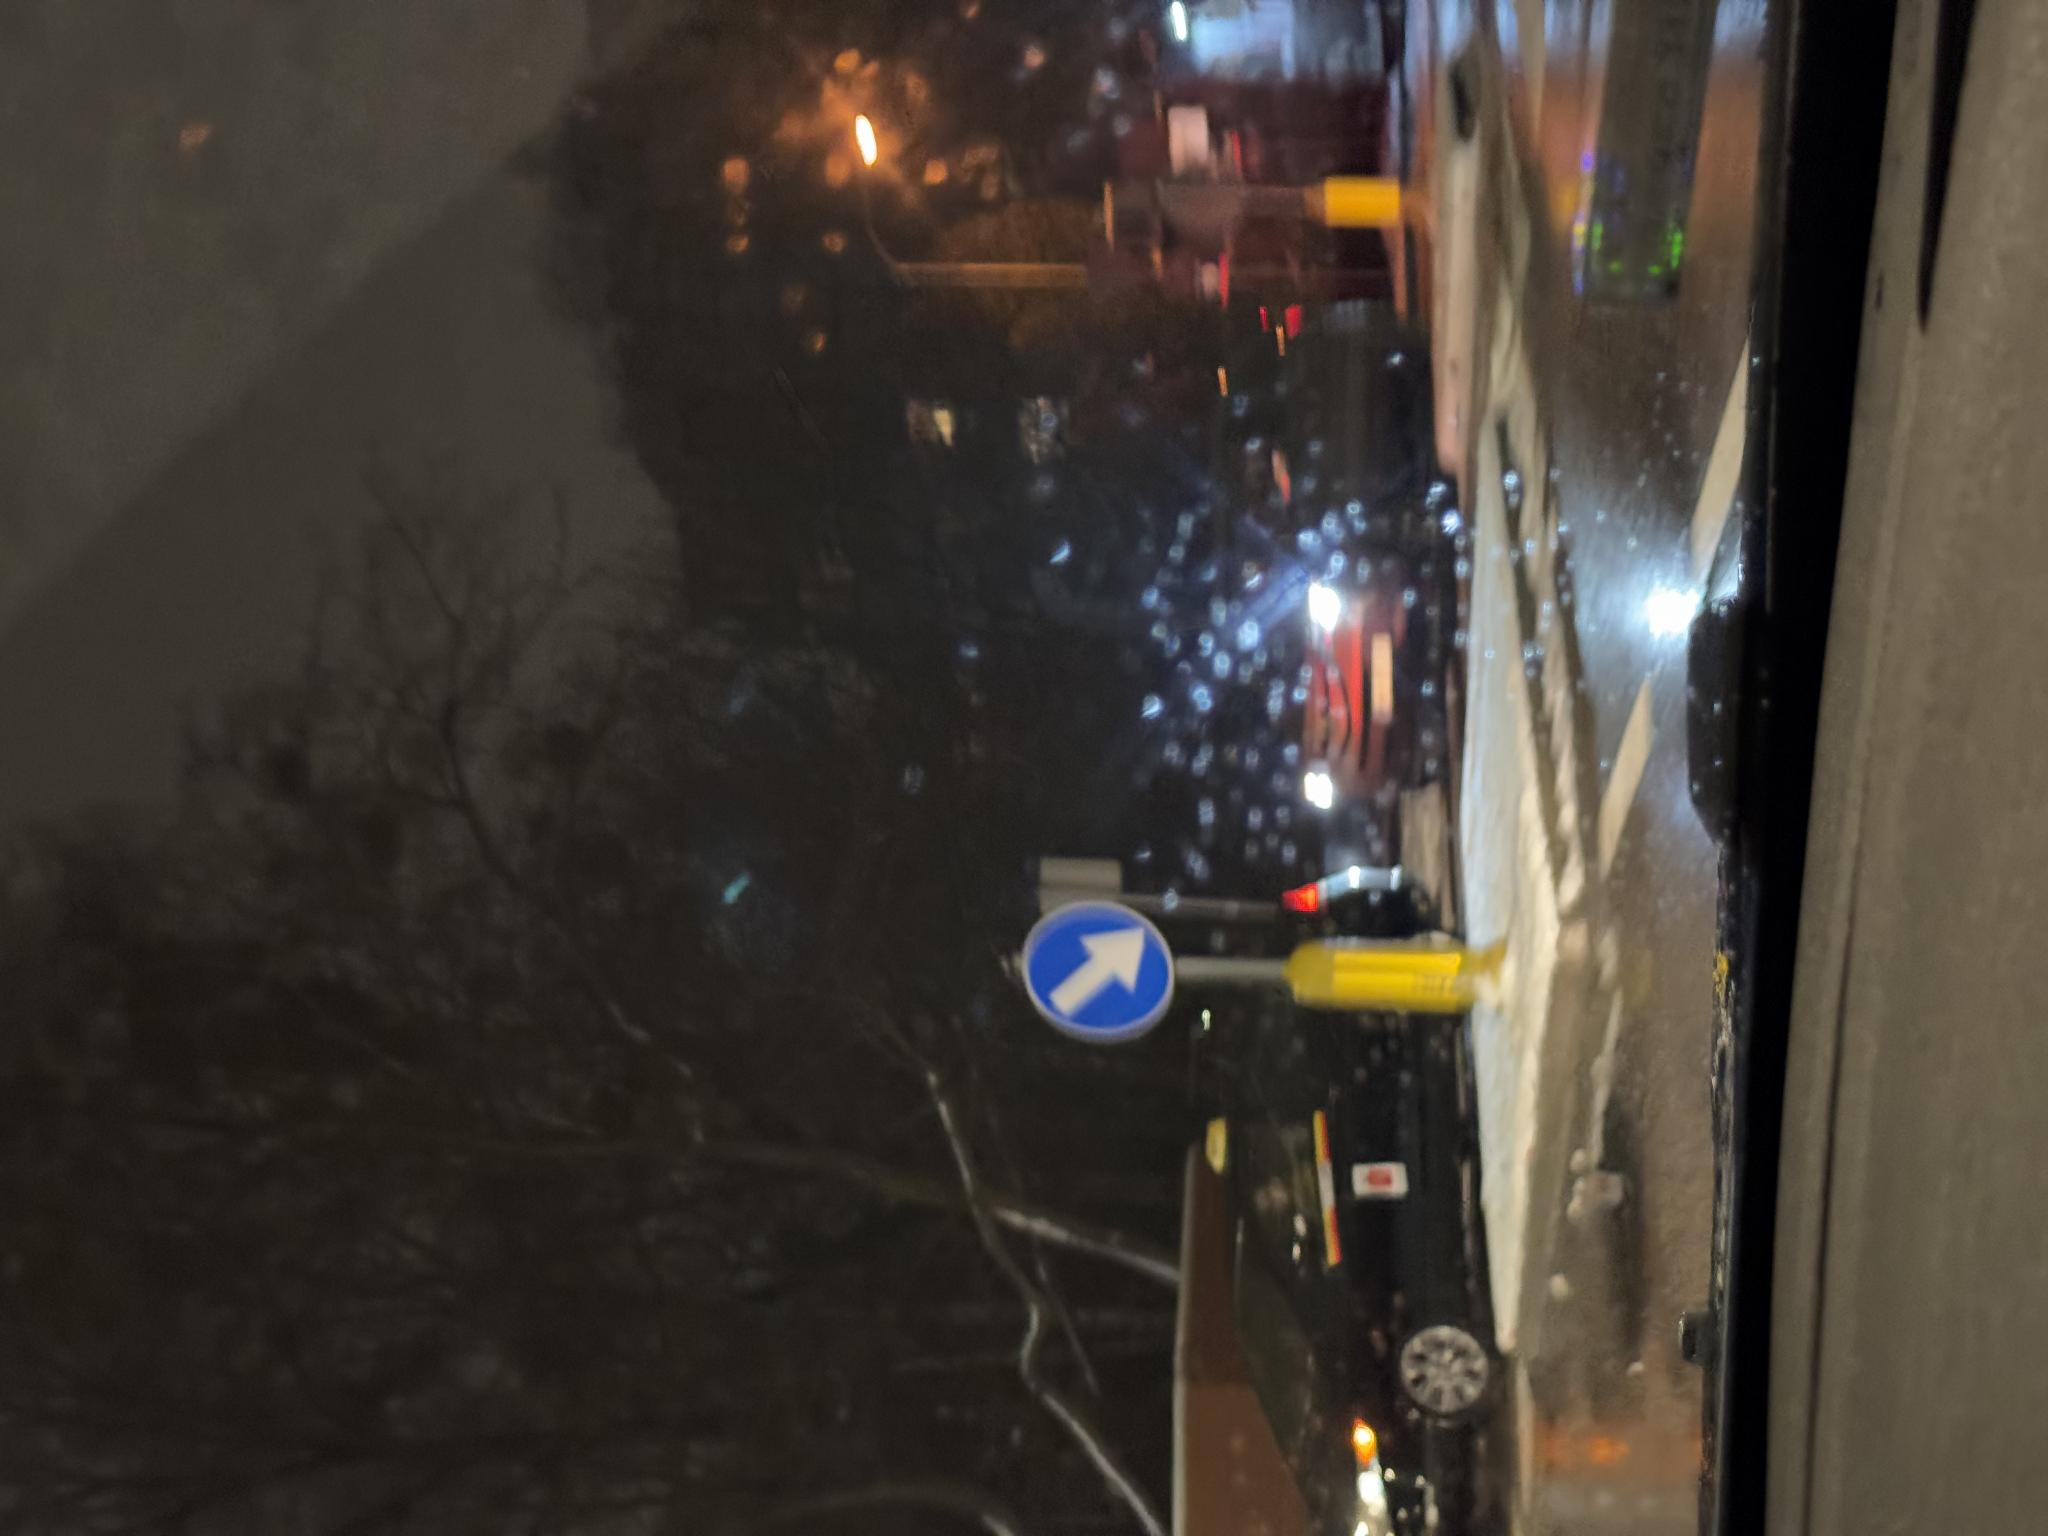mandatory: (488, 1021, 640, 1175)
